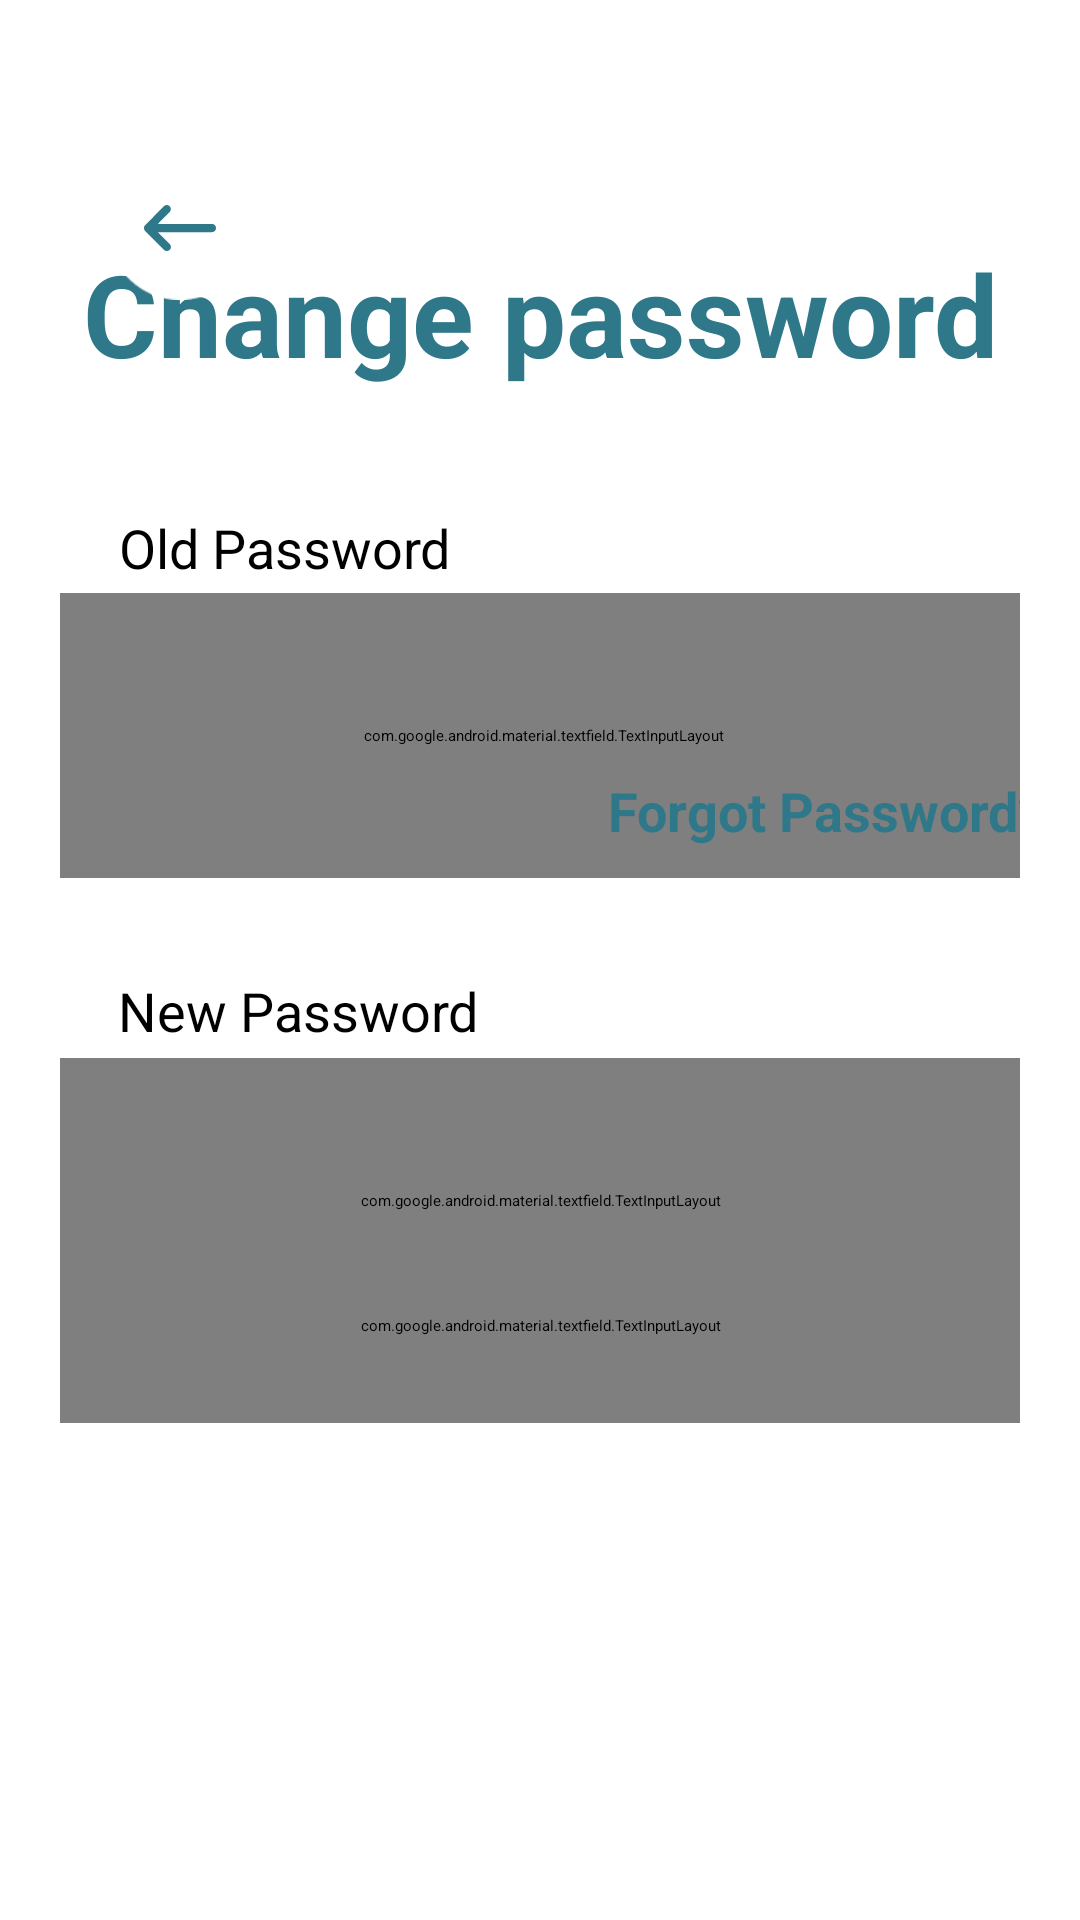

Screen size 1080px×1920px. Icon name, then its box in pixels as (x1, y1, x2, y2):
back arrorw: (144, 205, 216, 251)
